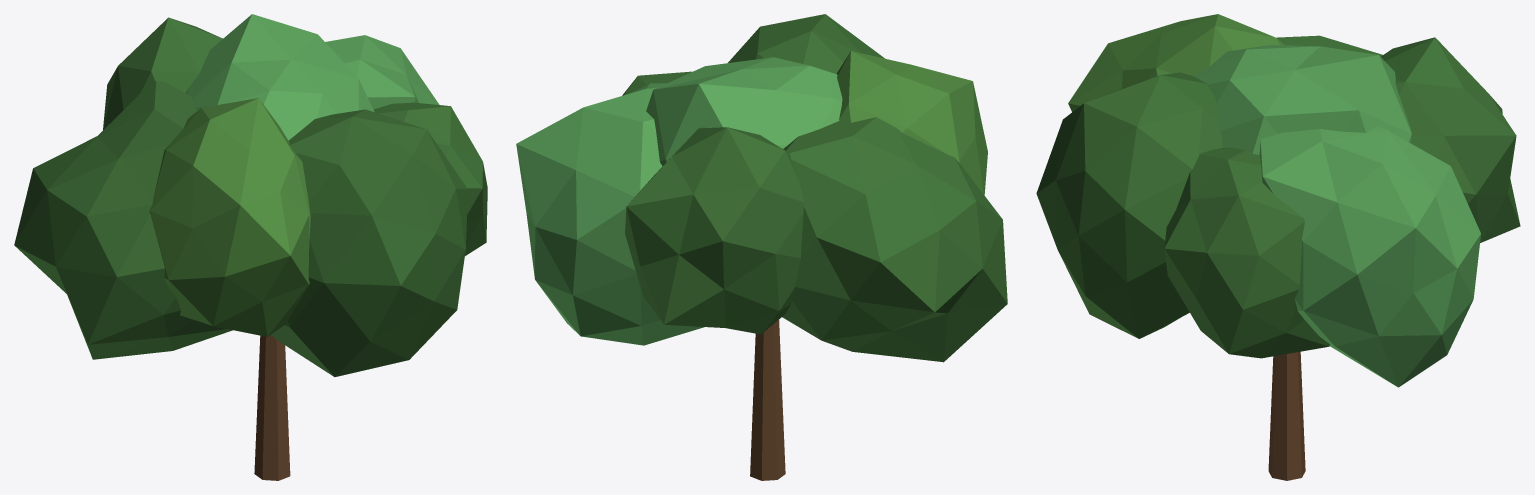
The model's file is oak-green.glb.
3 views of the same model, side by side, from view 1: azimuth 30°, elevation 25°; view 2: azimuth 150°, elevation 25°; view 3: azimuth 270°, elevation 25° (orthographic). The views are drawn at different scales.
Parts seen in each view (by area): view 1: tree; view 2: tree; view 3: tree.
Part boxes in pixels (bbox=[...]): tree: bbox=[14, 14, 487, 480]; tree: bbox=[516, 14, 1007, 480]; tree: bbox=[1036, 14, 1520, 480].
Size of the model in its own units: 13.11 by 12.56 by 12.82.
